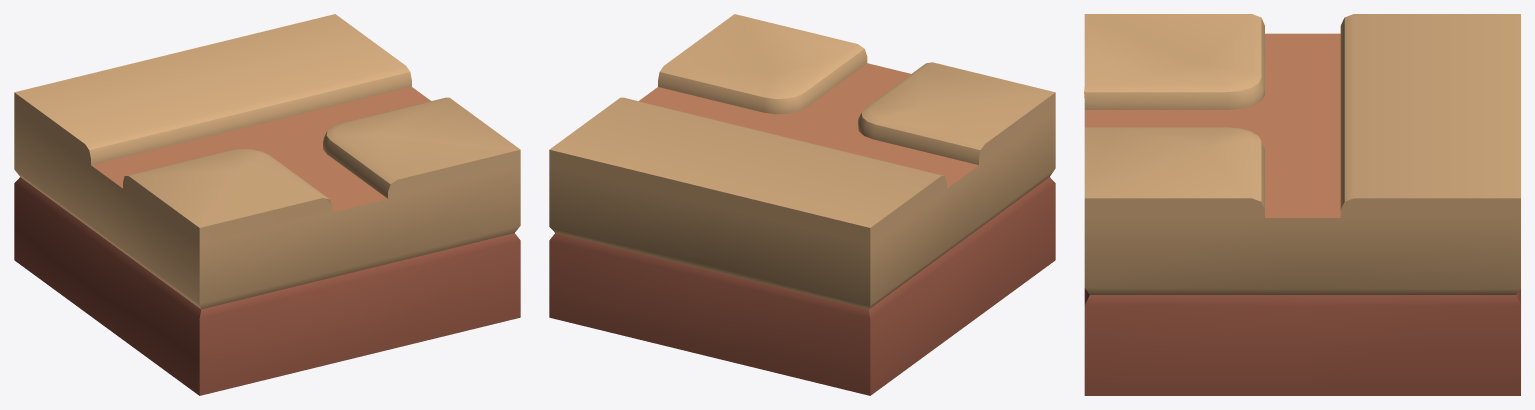
File: square_sand_roadD_detail.glb
3 renders of one model, left to right at view 1: azimuth 30°, elevation 25°; view 2: azimuth 150°, elevation 25°; view 3: azimuth 270°, elevation 25°, orthographic. The views are drawn at different scales.
Parts seen in each view (by area): view 1: square_sand_roadD_detail; view 2: square_sand_roadD_detail; view 3: square_sand_roadD_detail.
Part boxes in pixels (x1=…): square_sand_roadD_detail: x1=14, y1=14, x2=520, y2=395; square_sand_roadD_detail: x1=549, y1=14, x2=1055, y2=395; square_sand_roadD_detail: x1=1084, y1=14, x2=1520, y2=395.
Bounding box in the file's own units: 2 × 1 × 2.
